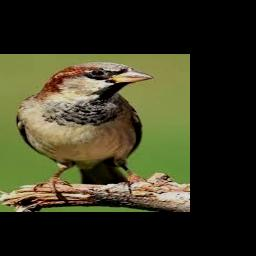Sparrow: (16, 62, 154, 196)
